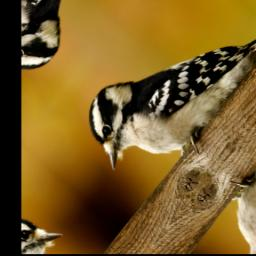Woodpecker: (67, 0, 256, 207)
